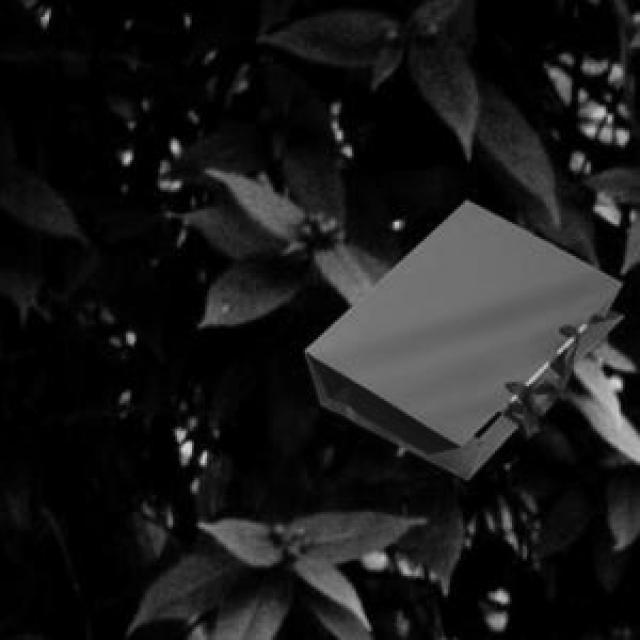paper: (301, 196, 619, 476)
